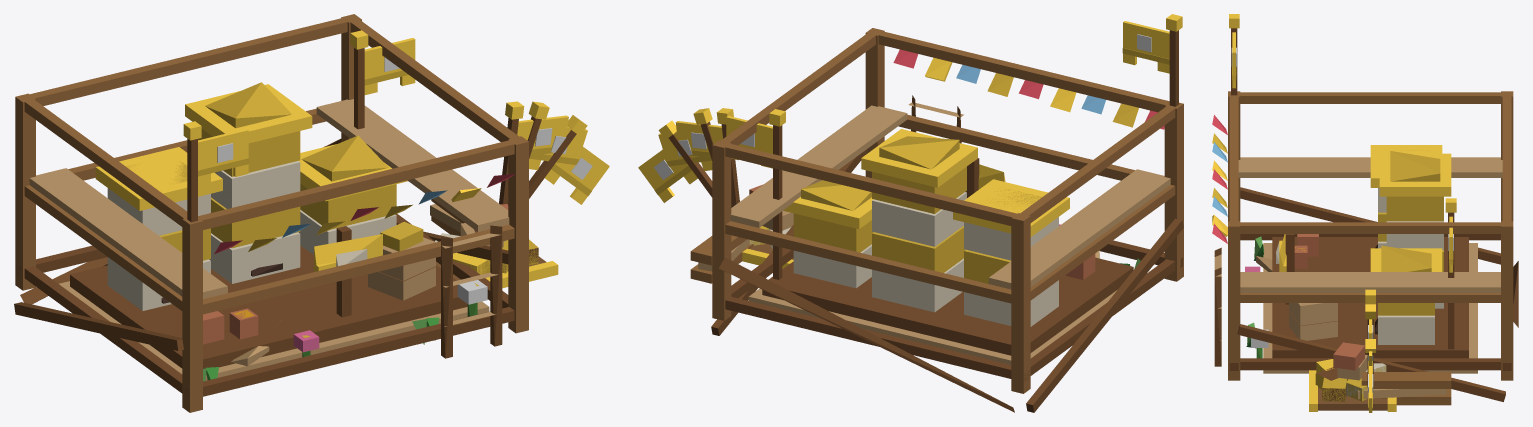
Rendered from bee-producer.glb.
3 views of the same model, side by side, from view 1: azimuth 30°, elevation 25°; view 2: azimuth 150°, elevation 25°; view 3: azimuth 270°, elevation 25° (orthographic). The views are drawn at different scales.
Parts seen in each view (by area): view 1: scaffold-mesh, built-mesh, dismantle-50-mesh, dismantle-75-mesh, scaffold-banner, dismantle-25-mesh, dismantle-25-banner, banner, scaffold-flag-pole, dismantle-75-banner, flag-pole, dismantle-50-banner (+3 smaller); view 2: scaffold-mesh, built-mesh, dismantle-50-mesh, dismantle-75-mesh, scaffold-banner, dismantle-25-banner, flag-pole, dismantle-50-banner, dismantle-75-banner, scaffold-flag-pole, banner, dismantle-25-mesh (+2 smaller); view 3: scaffold-mesh, built-mesh, dismantle-50-mesh, dismantle-75-mesh, dismantle-25-mesh, flag-pole, scaffold-flag-pole.
Boxes of the visible parts, left/top/right/bottom form: scaffold-mesh: left=14, top=14, right=528, bottom=412; built-mesh: left=95, top=82, right=489, bottom=380; dismantle-50-mesh: left=70, top=241, right=538, bottom=379; dismantle-75-mesh: left=59, top=135, right=508, bottom=379; scaffold-banner: left=198, top=128, right=248, bottom=185; dismantle-25-mesh: left=161, top=204, right=558, bottom=381; dismantle-25-banner: left=545, top=139, right=609, bottom=204; banner: left=364, top=38, right=415, bottom=94; scaffold-flag-pole: left=183, top=121, right=201, bottom=222; dismantle-75-banner: left=517, top=115, right=568, bottom=156; flag-pole: left=350, top=30, right=368, bottom=129; dismantle-50-banner: left=529, top=124, right=587, bottom=174; scaffold-mesh: left=690, top=28, right=1183, bottom=412; built-mesh: left=748, top=129, right=1129, bottom=364; dismantle-50-mesh: left=744, top=229, right=1132, bottom=344; dismantle-75-mesh: left=742, top=164, right=1117, bottom=360; scaffold-banner: left=1122, top=21, right=1169, bottom=73; dismantle-25-banner: left=638, top=144, right=697, bottom=202; flag-pole: left=769, top=109, right=785, bottom=279; dismantle-50-banner: left=658, top=129, right=712, bottom=175; dismantle-75-banner: left=675, top=121, right=722, bottom=158; scaffold-flag-pole: left=1166, top=14, right=1182, bottom=106; banner: left=726, top=115, right=772, bottom=168; dismantle-25-mesh: left=742, top=184, right=1099, bottom=264; scaffold-mesh: left=1212, top=91, right=1518, bottom=405; built-mesh: left=1246, top=145, right=1451, bottom=358; dismantle-50-mesh: left=1251, top=234, right=1468, bottom=411; dismantle-75-mesh: left=1245, top=195, right=1477, bottom=411; dismantle-25-mesh: left=1248, top=244, right=1396, bottom=411; flag-pole: left=1445, top=198, right=1456, bottom=349; scaffold-flag-pole: left=1229, top=14, right=1239, bottom=95.
Size of the model in its own units: 2.7 by 1.55 by 1.71.
